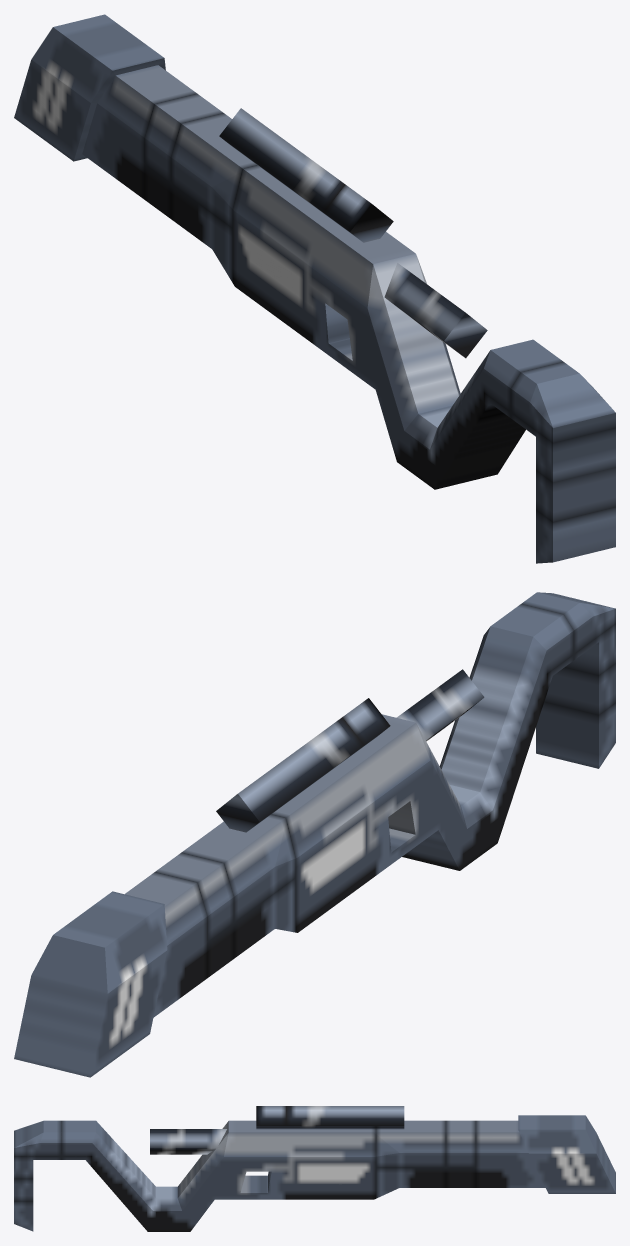
File: Gun.FBX
3 views of the same model, one above another, from view 1: azimuth 30°, elevation 25°; view 2: azimuth 150°, elevation 25°; view 3: azimuth 270°, elevation 25° (orthographic). The views are drawn at different scales.
Parts seen in each view (by area): view 1: Gun; view 2: Gun; view 3: Gun.
Boxes of the visible parts, x1,y1,x2,y2 form: Gun: (14, 14, 615, 563); Gun: (14, 592, 615, 1077); Gun: (14, 1106, 615, 1231).
Bounding box in the file's own units: 7.25 × 18.83 × 87.46.
1 material, 1 textured.
